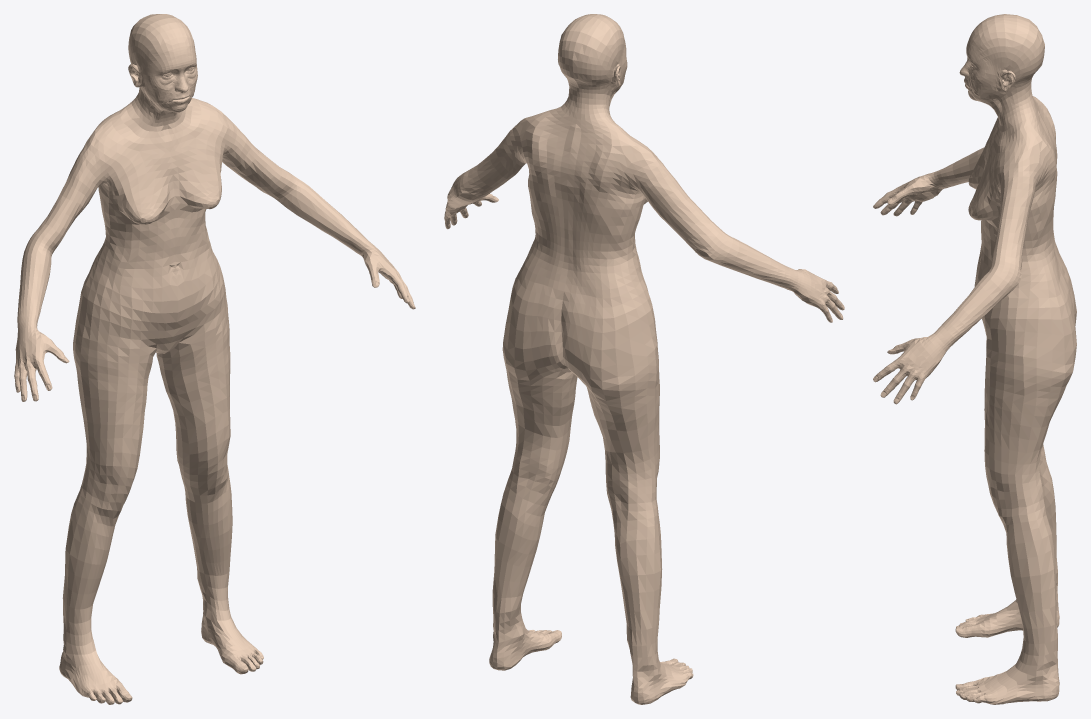
File: female-elder-average-low.glb
3 renders of one model, left to right at view 1: azimuth 30°, elevation 25°; view 2: azimuth 150°, elevation 25°; view 3: azimuth 270°, elevation 25°, orthographic.
Parts seen in each view (by area): view 1: world; view 2: world; view 3: world.
Part boxes in pixels (box(x1,y1,x2,y2)): world: box(14, 14, 415, 704); world: box(444, 14, 844, 704); world: box(873, 14, 1076, 704).
Size of the model in its own units: 1.13 by 1.8 by 0.5137.
